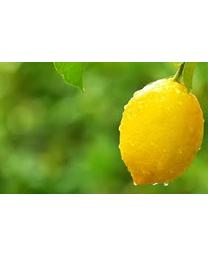lemon: (120, 80, 204, 184)
